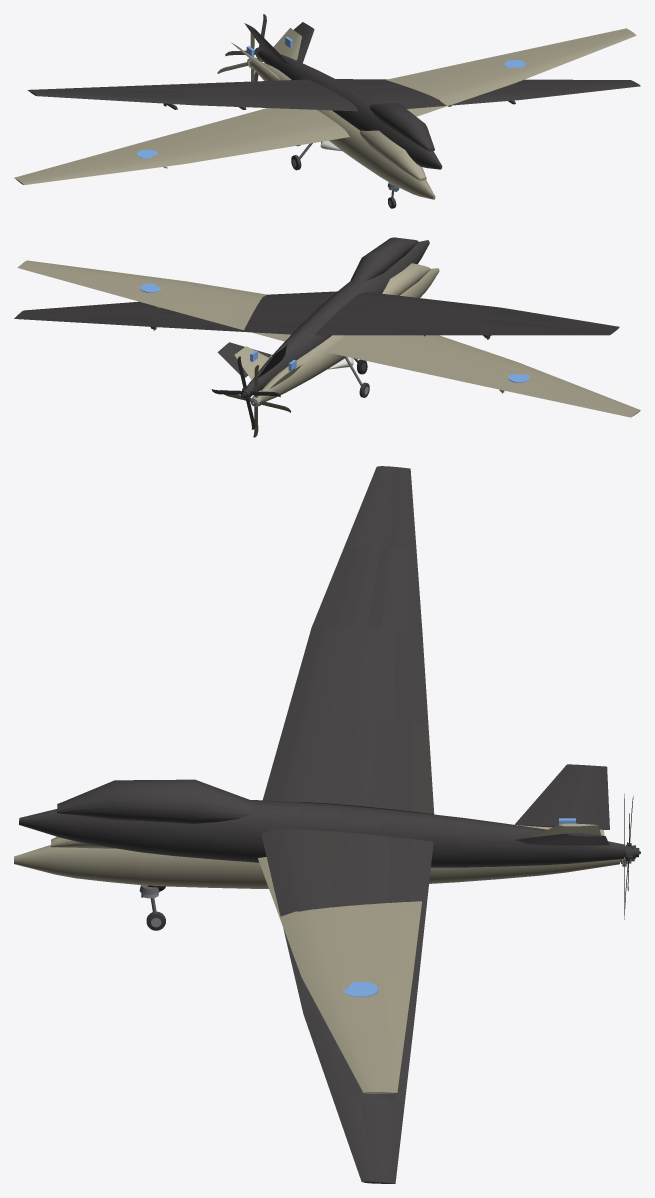
Rendered from drone__kus_fs.glb.
3 renders of one model, top to bottom at view 1: azimuth 30°, elevation 25°; view 2: azimuth 150°, elevation 25°; view 3: azimuth 270°, elevation 25°, orthographic. The views are drawn at different scales.
Parts seen in each view (by area): view 1: Fuselage_Mesh, Wreck, Propeller_Mesh; view 2: Wreck, Fuselage_Mesh, Propeller_Mesh; view 3: Wreck, Fuselage_Mesh.
Part boxes in pixels (box(x1,y1,x2,y2)): Fuselage_Mesh: box(14, 28, 636, 208); Wreck: box(27, 14, 640, 169); Propeller_Mesh: box(217, 32, 263, 81); Wreck: box(14, 237, 619, 429); Fuselage_Mesh: box(17, 260, 640, 417); Propeller_Mesh: box(221, 365, 291, 437); Wreck: box(19, 466, 640, 1183); Fuselage_Mesh: box(14, 818, 619, 1093).
Size of what is drawn, in the model's own units: 25.16 by 5.26 by 13.18.
